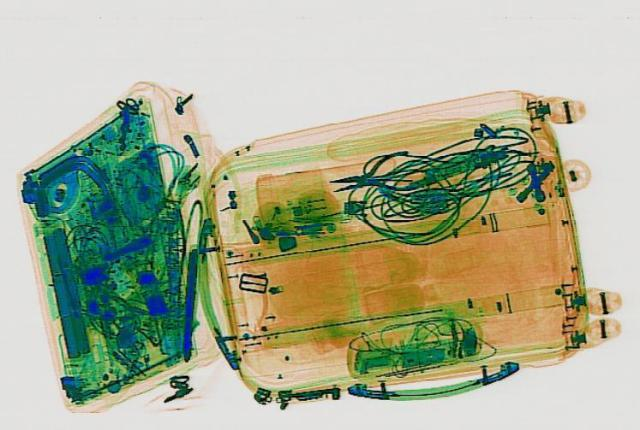Pliers: (318, 146, 427, 202)
